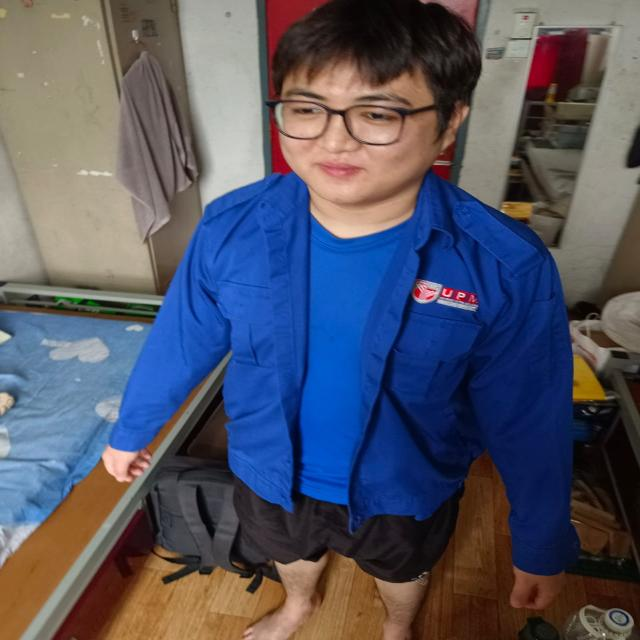person_with_labcoat: (103, 0, 579, 640)
